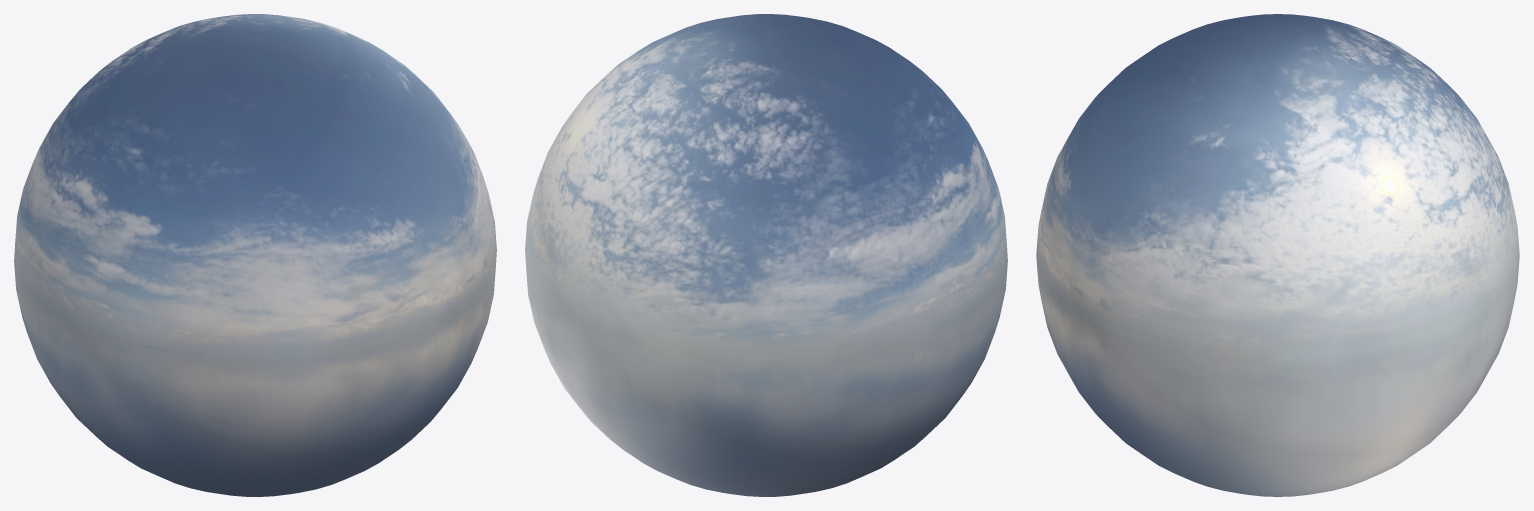
The model's file is river-sky.glb.
3 views of the same model, side by side, from view 1: azimuth 30°, elevation 25°; view 2: azimuth 150°, elevation 25°; view 3: azimuth 270°, elevation 25° (orthographic).
Parts seen in each view (by area): view 1: Panoramic sky dome; view 2: Panoramic sky dome; view 3: Panoramic sky dome.
Boxes of the visible parts, x1,y1,x2,y2 form: Panoramic sky dome: (14, 14, 496, 496); Panoramic sky dome: (525, 14, 1007, 496); Panoramic sky dome: (1036, 14, 1519, 496).
Bounding box in the file's own units: 2 × 2 × 2.
1 material, 1 textured.
